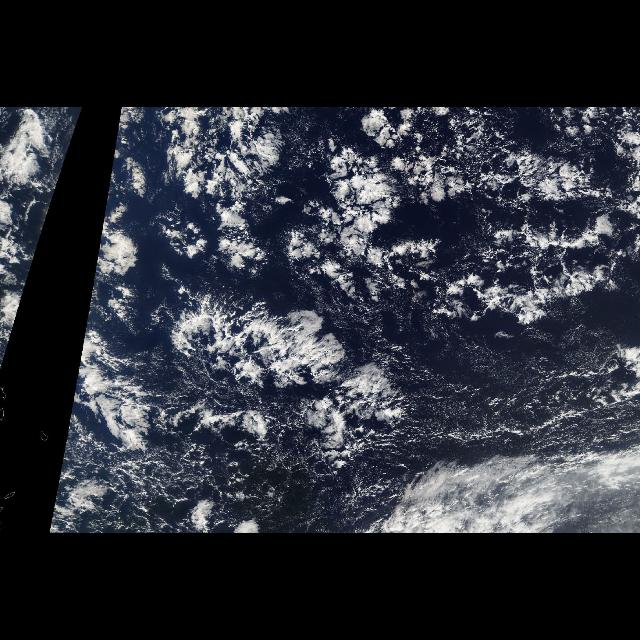Flower: (164, 115, 413, 303)
Gravel: (452, 117, 626, 313)
Sugar: (344, 285, 640, 469), (155, 379, 335, 497)
